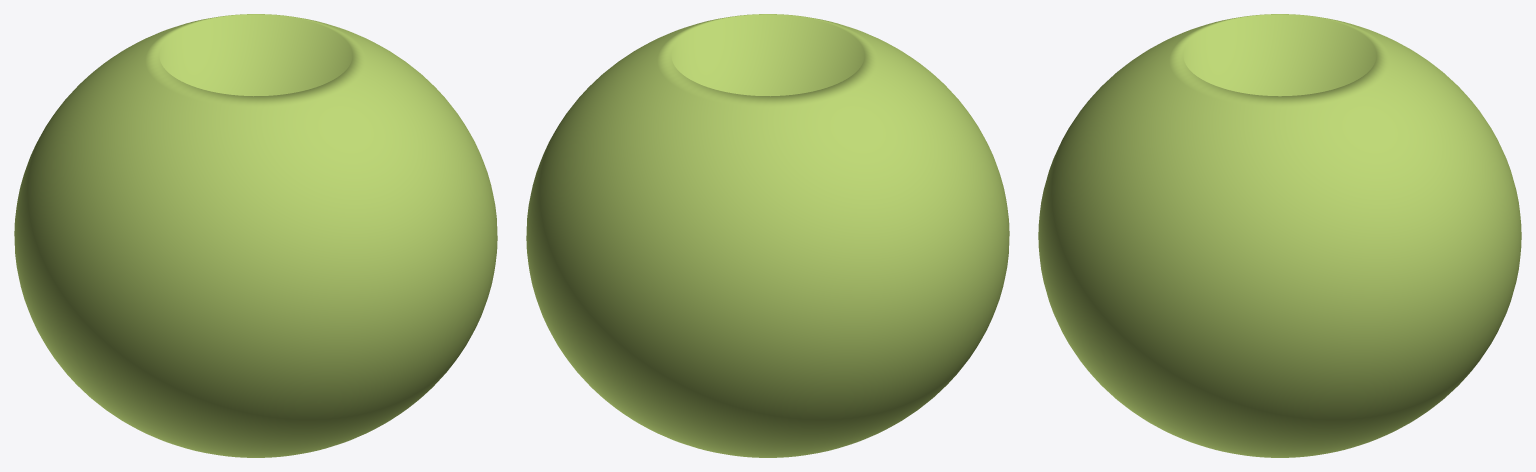
File: spacer-310-glass.glb
3 renders of one model, left to right at view 1: azimuth 30°, elevation 25°; view 2: azimuth 150°, elevation 25°; view 3: azimuth 270°, elevation 25°, orthographic.
Parts seen in each view (by area): view 1: Spacer with through bore.009; view 2: Spacer with through bore.009; view 3: Spacer with through bore.009.
Part boxes in pixels (x1,y1,x2,y2): Spacer with through bore.009: (14,14,497,457); Spacer with through bore.009: (526,14,1009,457); Spacer with through bore.009: (1038,14,1521,457).
Size of the model in its own units: 0.002 by 0.00165 by 0.002.
